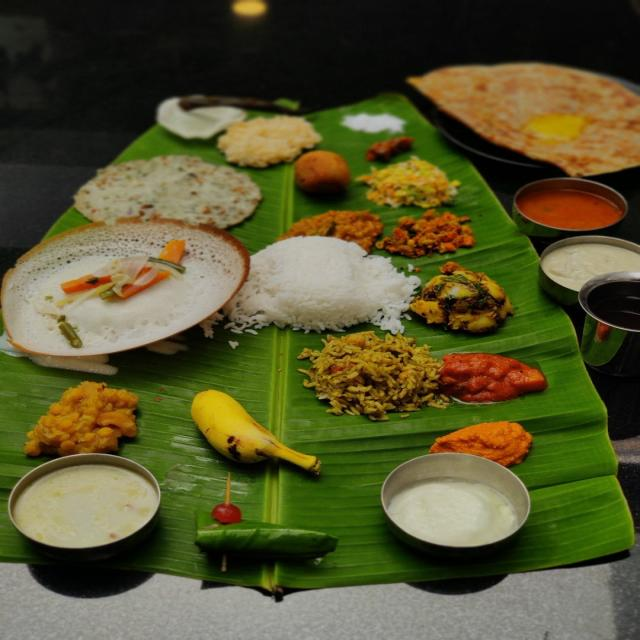veg meals: (0, 38, 640, 579)
